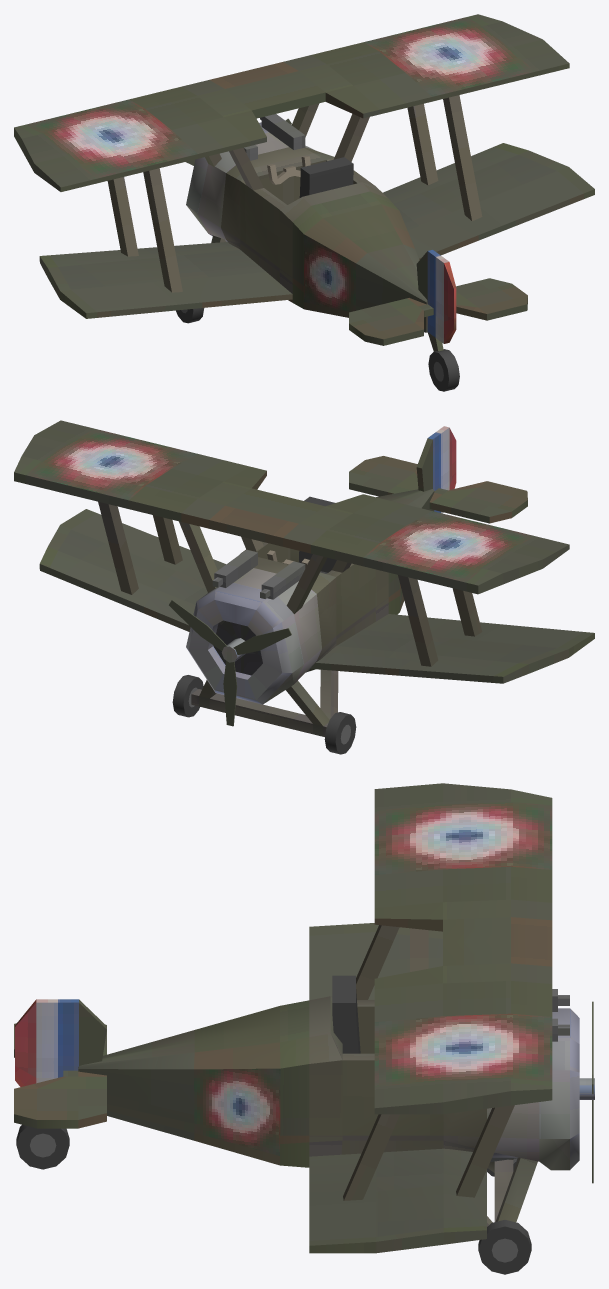
The model's file is sopwith_camel_plane_low_poly_game_mod.glb.
The picture shows the model from 3 angles, top to bottom: view 1: azimuth 30°, elevation 25°; view 2: azimuth 150°, elevation 25°; view 3: azimuth 270°, elevation 25°; orthographic projection. The views are drawn at different scales.
Parts seen in each view (by area): view 1: Model_0_16, Chair_Car_12, Model_0_9, Steer_11; view 2: Model_0_16, Model_0_15, Model_0_7, Model_0_5; view 3: Model_0_16, Model_0_5, Model_0_9, Chair_Car_12.
Boxes of the visible parts, x1,y1,x2,y2 form: Model_0_16: (14, 14, 594, 351); Chair_Car_12: (299, 157, 353, 197); Model_0_9: (428, 349, 459, 391); Steer_11: (267, 155, 310, 184); Model_0_16: (14, 420, 594, 736); Model_0_15: (169, 600, 291, 726); Model_0_7: (324, 712, 356, 754); Model_0_5: (172, 675, 203, 717); Model_0_16: (14, 783, 594, 1253); Model_0_5: (478, 1220, 531, 1274); Model_0_9: (16, 1124, 69, 1169); Chair_Car_12: (332, 975, 360, 1053).
Size of the model in its own units: 9.37 by 3.88 by 7.21.
5 materials, 4 textured.
